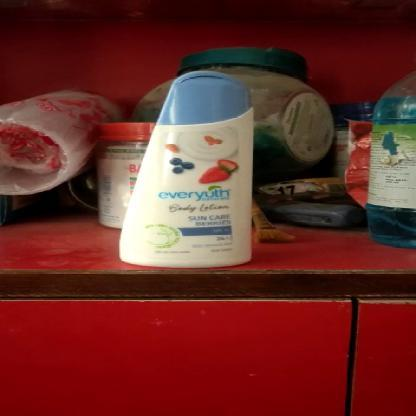Everyuth Naturals Body Lotion Sun Care Berries SPF 15 200ml: (120, 68, 262, 267)
